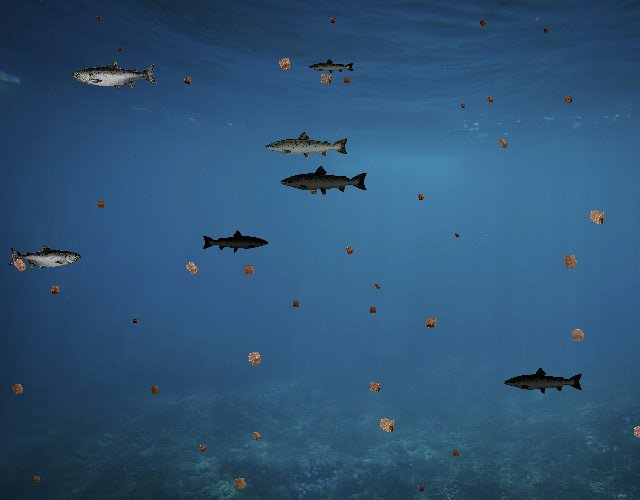Fish: (279, 165, 369, 197), (264, 130, 350, 161), (72, 60, 158, 91), (503, 367, 584, 396), (9, 244, 82, 270), (202, 229, 270, 254), (308, 59, 355, 76)
Pellet: (314, 68, 337, 91), (493, 133, 513, 153), (179, 72, 196, 89), (366, 303, 380, 317), (93, 12, 106, 25), (458, 100, 468, 110)
